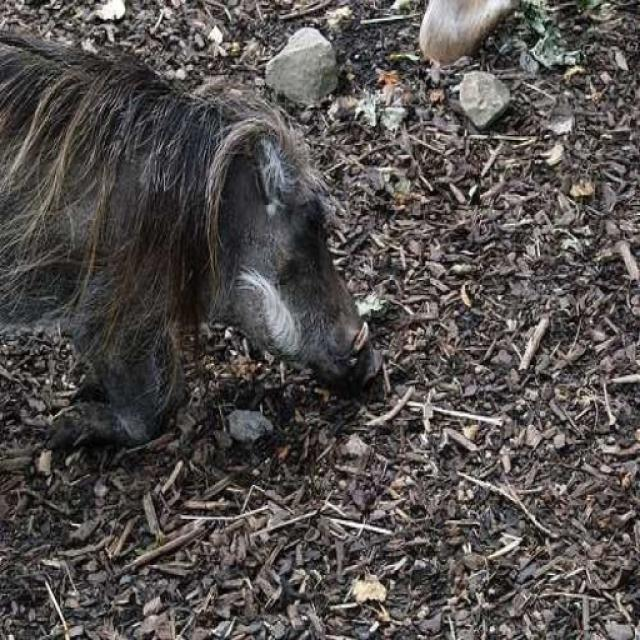pig: (0, 34, 451, 409)
